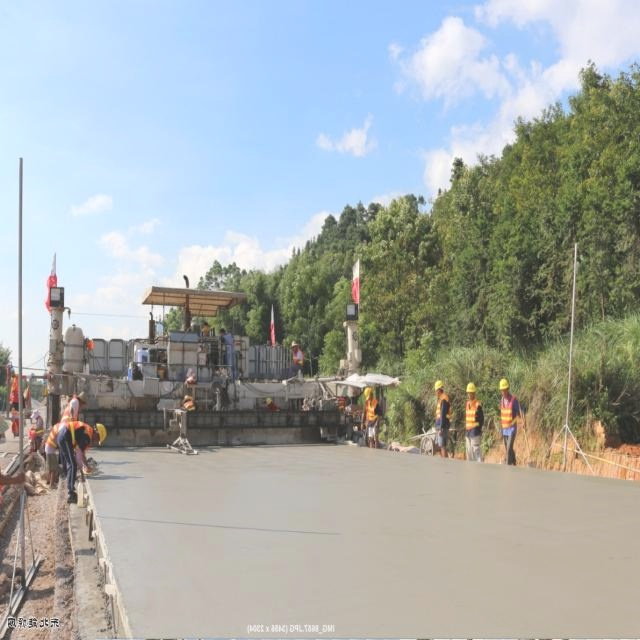Con_Chaleco: (63, 421, 93, 455), (499, 396, 517, 432), (464, 398, 484, 430), (435, 394, 451, 422), (364, 400, 380, 424)
